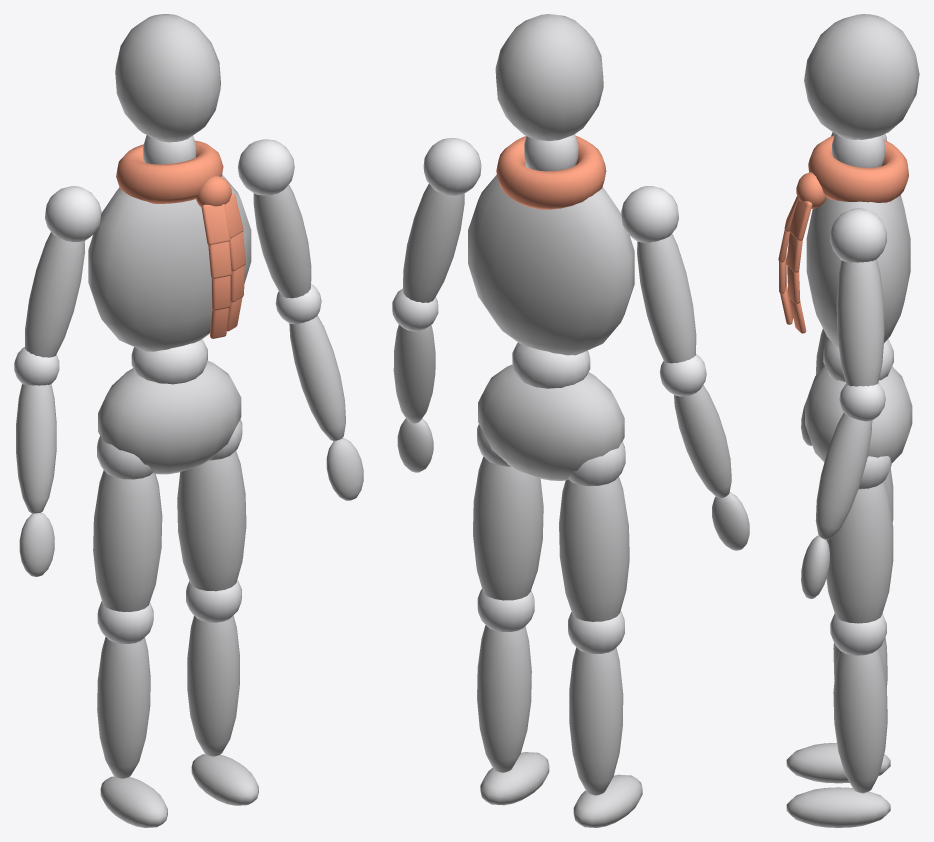
The model's file is cinematographer.glb.
3 views of the same model, side by side, from view 1: azimuth 30°, elevation 25°; view 2: azimuth 150°, elevation 25°; view 3: azimuth 270°, elevation 25° (orthographic). The views are drawn at different scales.
Visible parts, largest first — view 1: leg_R, torso, leg_L, hips, head, forearm_R, arm_R, forearm_L, arm_L, scarf_wrap, neck, scarf_tail_A_1 (+2 smaller); view 2: torso, leg_R, leg_L, hips, head, arm_R, arm_L, forearm_R, forearm_L, scarf_wrap, neck; view 3: leg_L, head, torso, arm_L, forearm_L, hips, scarf_wrap, leg_R, neck, scarf_tail_B_1, forearm_R, scarf_tail_B_2 (+3 smaller).
Boxes of the visible parts, x1,y1,x2,y2 form: leg_R: [93, 436, 167, 827]; torso: [88, 174, 251, 384]; leg_L: [177, 419, 258, 805]; hips: [98, 361, 241, 474]; head: [115, 14, 220, 142]; forearm_R: [14, 347, 59, 576]; arm_R: [25, 186, 101, 357]; forearm_L: [275, 283, 363, 500]; arm_L: [238, 139, 311, 298]; scarf_wrap: [116, 140, 231, 207]; neck: [143, 135, 196, 164]; scarf_tail_A_1: [201, 204, 230, 245]; torso: [468, 163, 634, 388]; leg_R: [559, 442, 642, 827]; leg_L: [473, 424, 549, 805]; hips: [478, 364, 624, 480]; head: [495, 14, 603, 141]; arm_R: [621, 186, 696, 363]; arm_L: [403, 138, 481, 302]; forearm_R: [659, 354, 749, 550]; forearm_L: [392, 288, 438, 472]; scarf_wrap: [496, 136, 606, 209]; neck: [524, 134, 578, 171]; leg_L: [786, 456, 893, 827]; head: [804, 14, 919, 139]; torso: [806, 195, 910, 381]; arm_L: [830, 208, 886, 386]; forearm_L: [801, 383, 885, 598]; hips: [805, 366, 912, 463]; scarf_wrap: [796, 135, 908, 208]; leg_R: [786, 468, 893, 783]; neck: [832, 134, 885, 167]; scarf_tail_B_1: [789, 198, 812, 240]; forearm_R: [801, 329, 828, 445]; scarf_tail_B_2: [786, 232, 802, 272].
Size of the model in its own units: 0.4953 by 1.08 by 0.1765.
